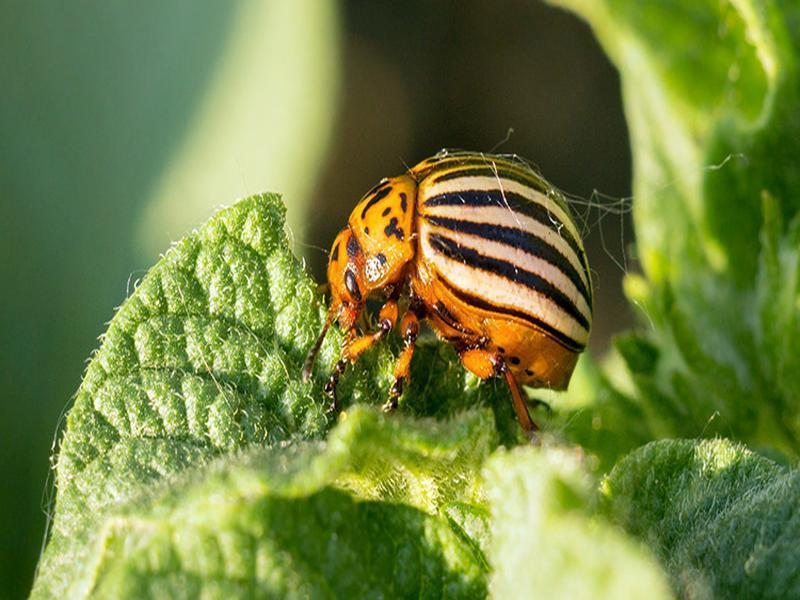hrosc: (322, 140, 607, 427)
